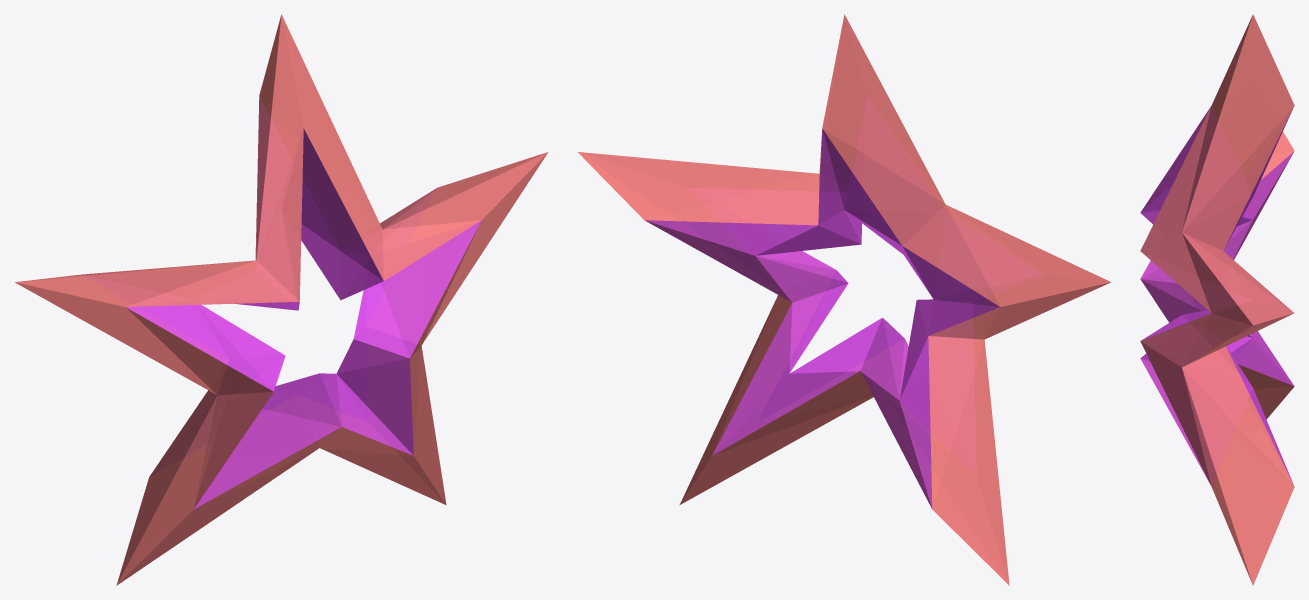
File: Regular5TetragonalStarToroid1.obj
The picture shows the model from 3 angles, left to right: view 1: azimuth 30°, elevation 25°; view 2: azimuth 150°, elevation 25°; view 3: azimuth 270°, elevation 25°; orthographic projection. The views are drawn at different scales.
Size of the model in its own units: 4.85 by 4.62 by 1.3.
